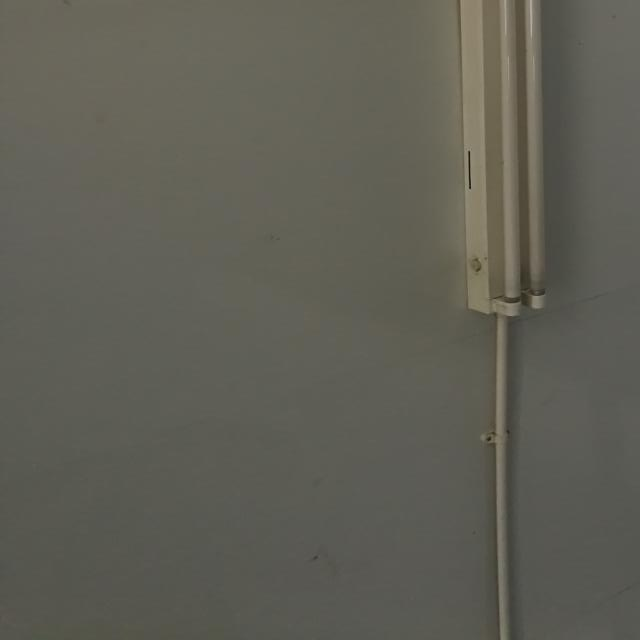fluorescent tube: (428, 0, 585, 327)
